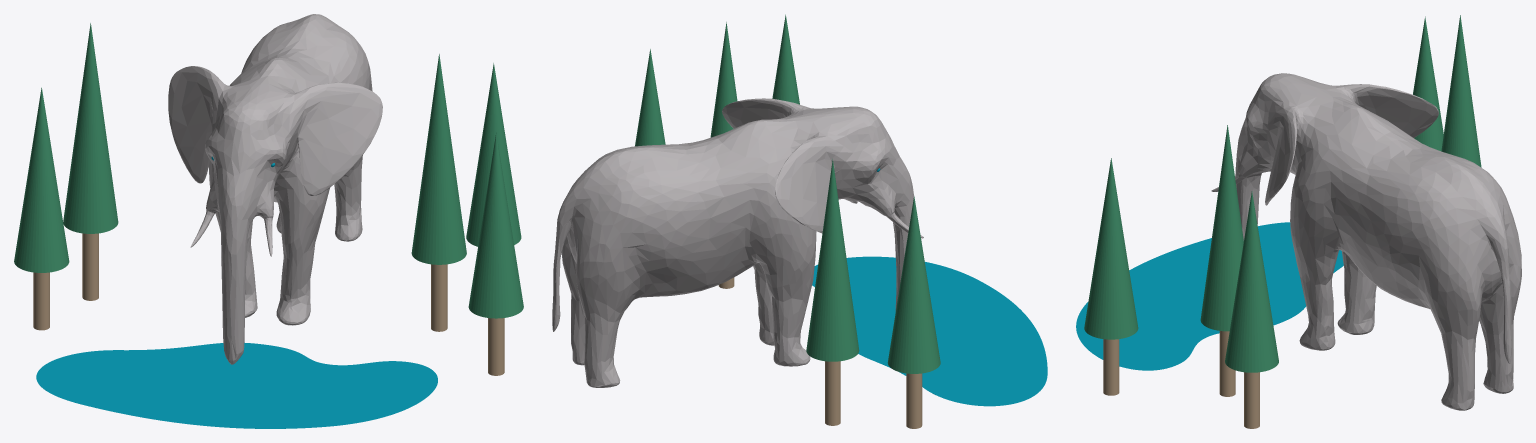
The model's file is elephant.glb.
3 views of the same model, side by side, from view 1: azimuth 30°, elevation 25°; view 2: azimuth 150°, elevation 25°; view 3: azimuth 270°, elevation 25° (orthographic). The views are drawn at different scales.
Parts seen in each view (by area): view 1: Mesh_Mesh_head_geo.001_lambert2SG.001; view 2: Mesh_Mesh_head_geo.001_lambert2SG.001; view 3: Mesh_Mesh_head_geo.001_lambert2SG.001.
Part boxes in pixels (<box>): Mesh_Mesh_head_geo.001_lambert2SG.001: <box>14,14,523,428</box>; Mesh_Mesh_head_geo.001_lambert2SG.001: <box>552,14,1047,428</box>; Mesh_Mesh_head_geo.001_lambert2SG.001: <box>1076,15,1521,428</box>.
Size of the model in its own units: 0.188 by 0.11 by 0.1647.
